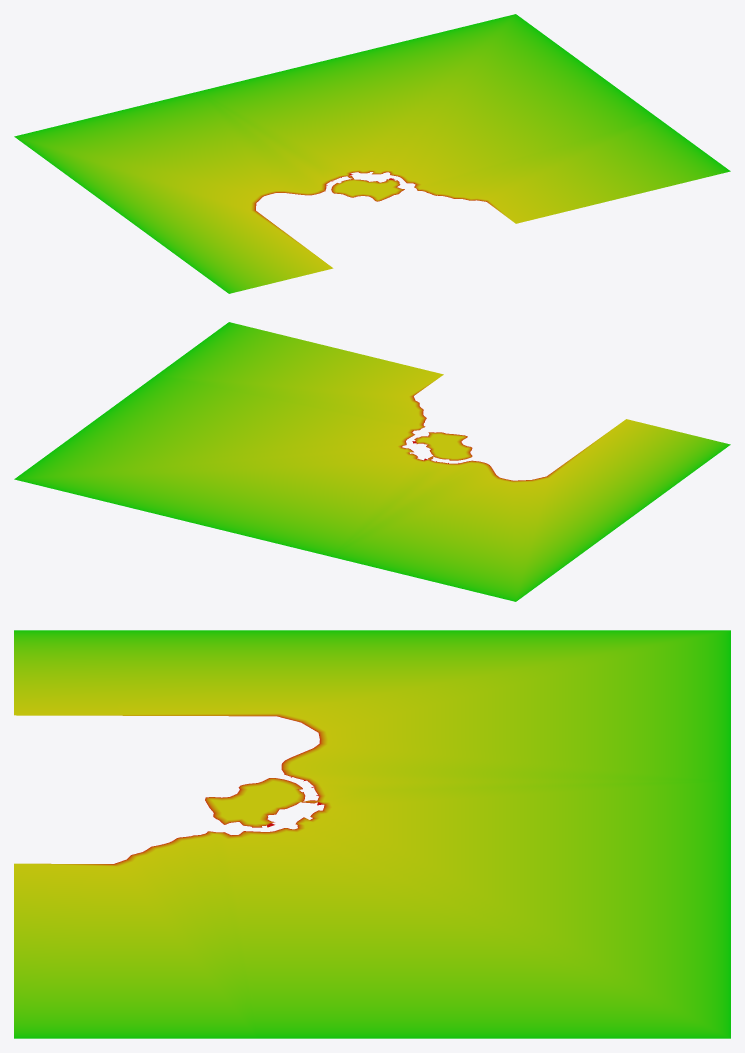
The model's file is water_0.glb.
3 views of the same model, one above another, from view 1: azimuth 30°, elevation 25°; view 2: azimuth 150°, elevation 25°; view 3: azimuth 270°, elevation 25° (orthographic). The views are drawn at different scales.
Visible parts, largest first — view 1: water; view 2: water; view 3: water.
Part boxes in pixels (left/top/right/bottom): water: left=14, top=14, right=730, bottom=293; water: left=14, top=322, right=730, bottom=601; water: left=14, top=630, right=730, bottom=1038.
Bounding box in the file's own units: 201 × 0.0266 × 149.
